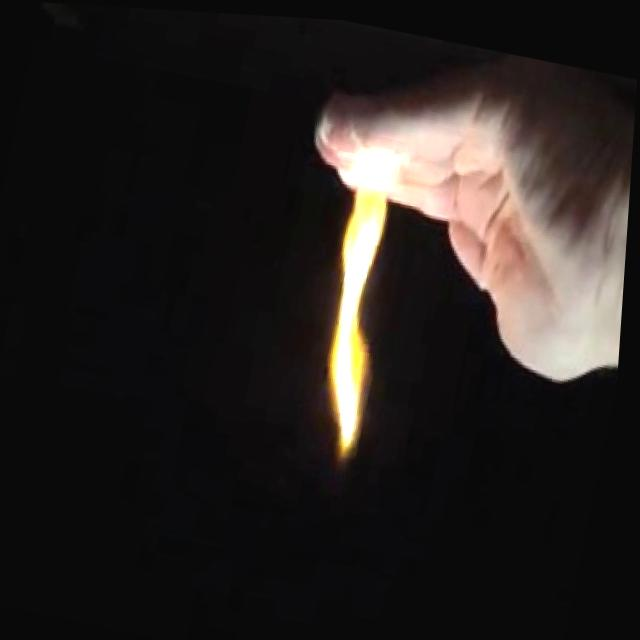helmet: (292, 130, 428, 469)
